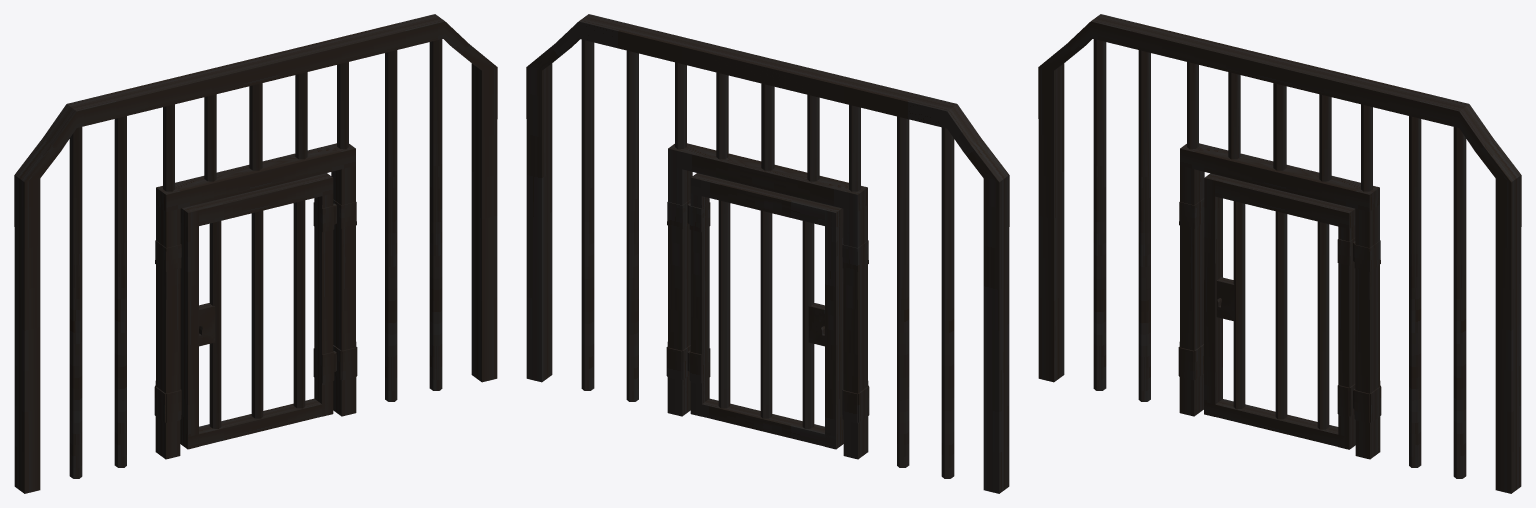
The model's file is celda.glb.
3 renders of one model, left to right at view 1: azimuth 30°, elevation 25°; view 2: azimuth 150°, elevation 25°; view 3: azimuth 330°, elevation 25°, orthographic.
Visible parts, largest first — view 1: celda_barras-col, puerta-col; view 2: celda_barras-col, puerta-col; view 3: celda_barras-col, puerta-col.
Part boxes in pixels (left/top/right/bottom): celda_barras-col: left=14, top=14, right=497, bottom=493; puerta-col: left=180, top=173, right=336, bottom=449; celda_barras-col: left=526, top=14, right=1009, bottom=493; puerta-col: left=687, top=173, right=843, bottom=449; celda_barras-col: left=1038, top=14, right=1521, bottom=493; puerta-col: left=1204, top=173, right=1355, bottom=449.
Size of the model in its own units: 4.01 by 3 by 0.17.
Materials: 1 (1 with a texture image).
